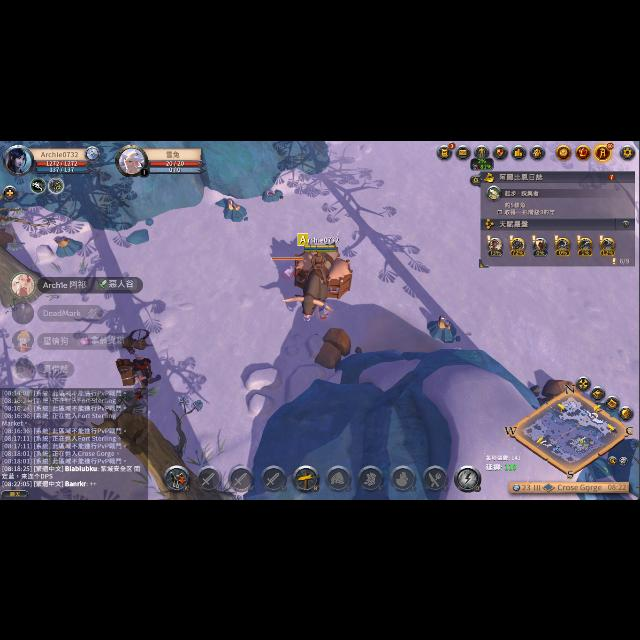mine_ii: (429, 312, 461, 342), (49, 235, 87, 257), (222, 195, 248, 221)
